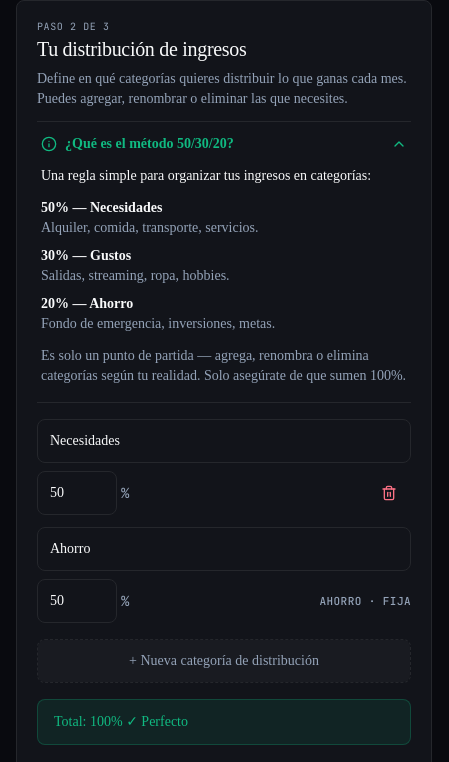
Test: OnboardingStep2 › blocks deleting a bucket that has movements associated, even with no expense categories attached
This screenshot has width=449, height=762.
Step 1. Click the button named "eliminar categoría" → coordinates (389, 493), box top-left (367, 471), bottom-right (411, 515)
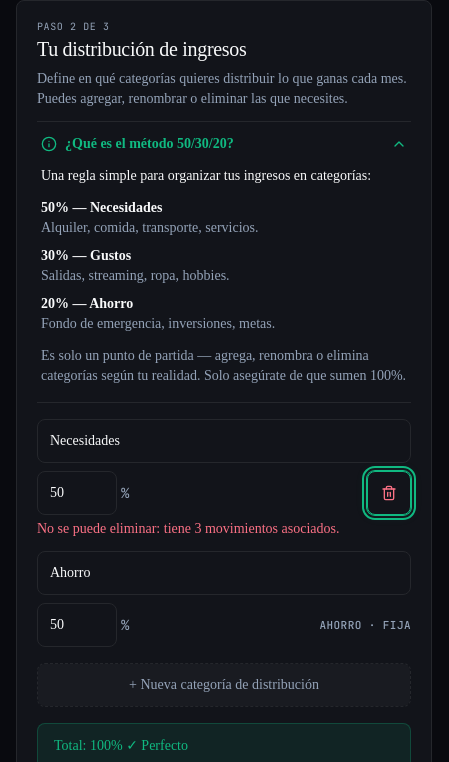
Expected: the text "No se puede eliminar: tiene 3 movimientos asociados." is shown, top-left (37, 521), bottom-right (340, 536)
